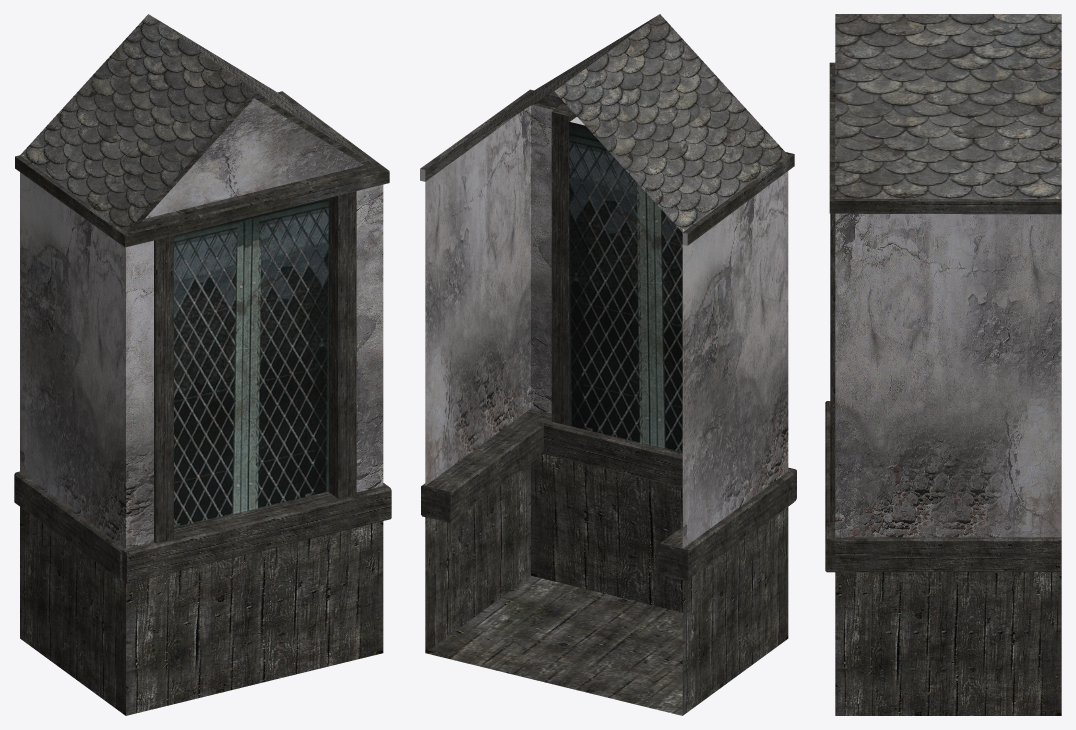
File: WindowBox_2.fbx
3 views of the same model, side by side, from view 1: azimuth 30°, elevation 25°; view 2: azimuth 150°, elevation 25°; view 3: azimuth 270°, elevation 25° (orthographic). The views are drawn at different scales.
Visible parts, largest first — view 1: WindowBox_2; view 2: WindowBox_2; view 3: WindowBox_2.
Part boxes in pixels (x1=…): WindowBox_2: x1=14, y1=14, x2=391, y2=715; WindowBox_2: x1=420, y1=14, x2=796, y2=715; WindowBox_2: x1=825, y1=14, x2=1061, y2=715.
Bounding box in the file's own units: 81.13 × 172 × 57.95.
